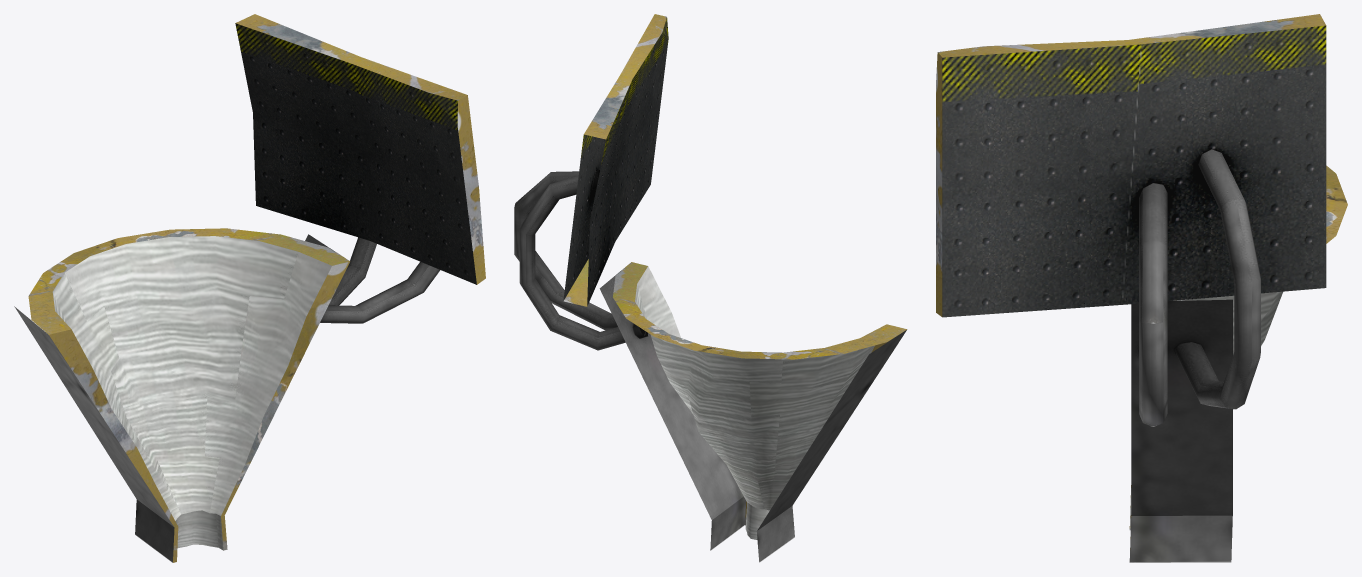
Rendered from entonoir.fbx.
3 views of the same model, side by side, from view 1: azimuth 30°, elevation 25°; view 2: azimuth 150°, elevation 25°; view 3: azimuth 270°, elevation 25° (orthographic). The views are drawn at different scales.
Visible parts, largest first — view 1: polySurface7; view 2: polySurface7; view 3: polySurface7.
Part boxes in pixels (bbox=[...]): polySurface7: bbox=[14, 14, 485, 562]; polySurface7: bbox=[514, 14, 907, 562]; polySurface7: bbox=[936, 14, 1347, 562].
Size of the model in its own units: 25.96 by 27.46 by 16.68.
